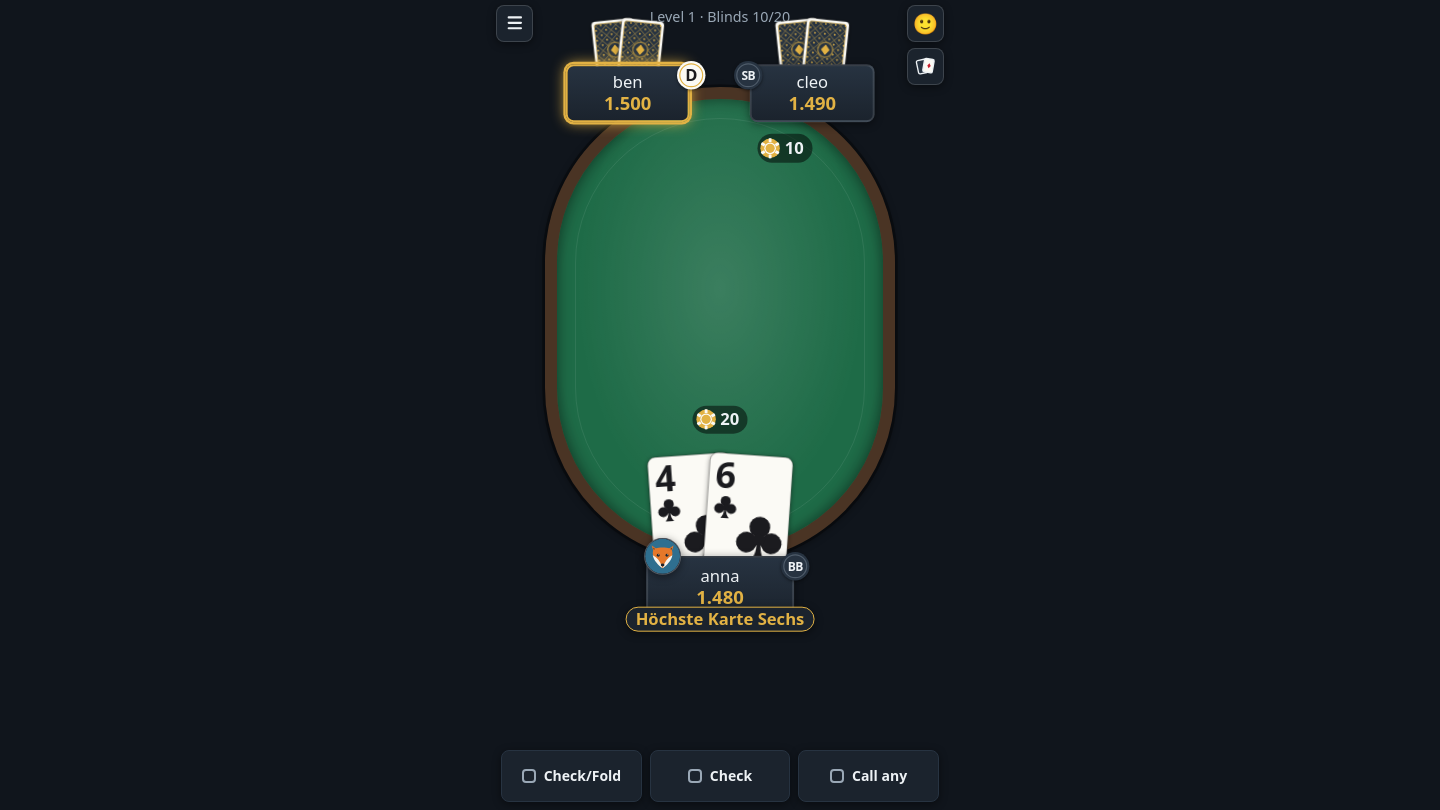
it: Admin deckt Karten auf (GameTable) › Ablehnung durch den Server: Hinweis, Aktionsleiste bleibt unberührt
The width and height of the screenshot is (1440, 810).
Click the button named "Karten von cleo" at (812, 50), box [778,19,847,81]
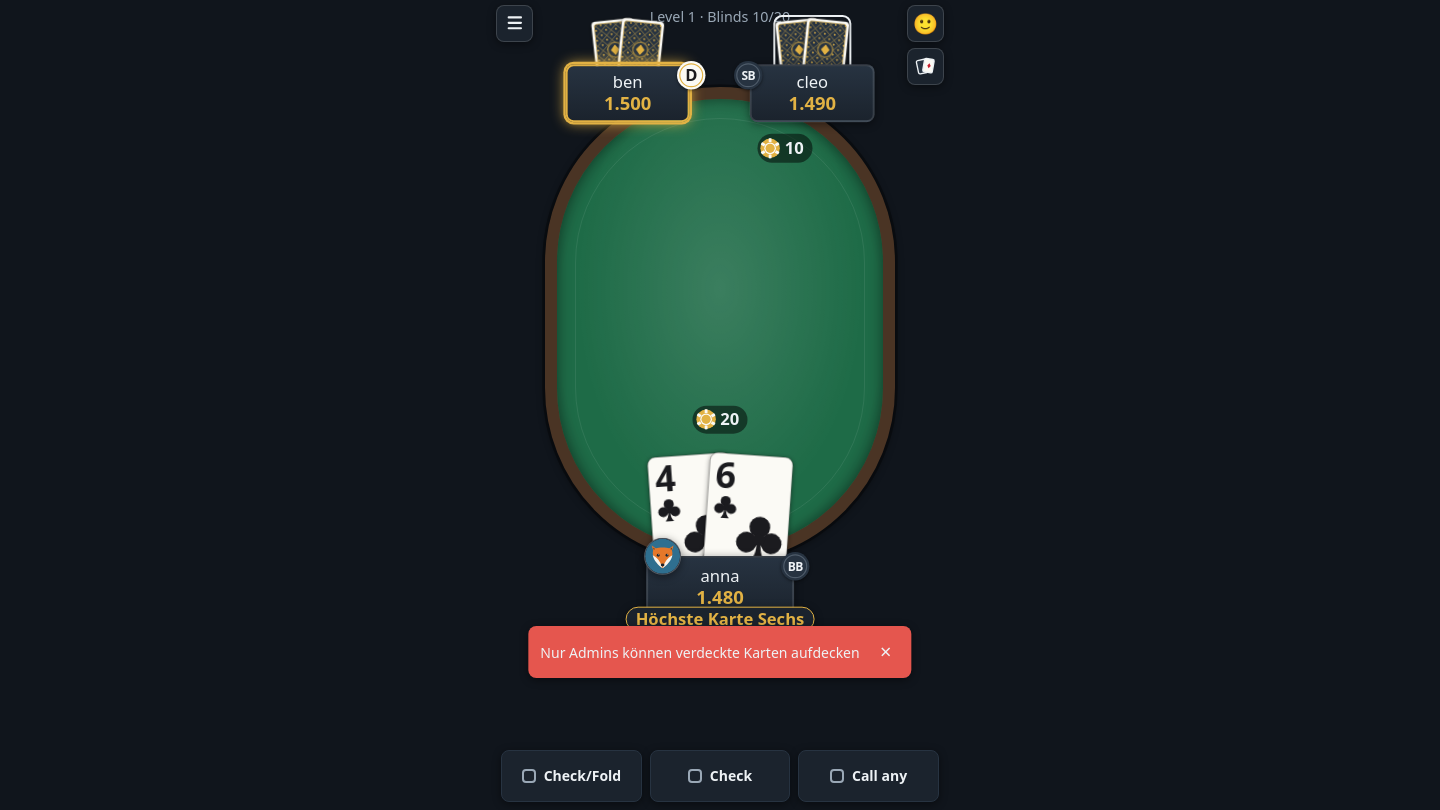
Expected: the text "Nur Admins können verdeckte Karten aufdecken" is shown, [540,642,860,662]
